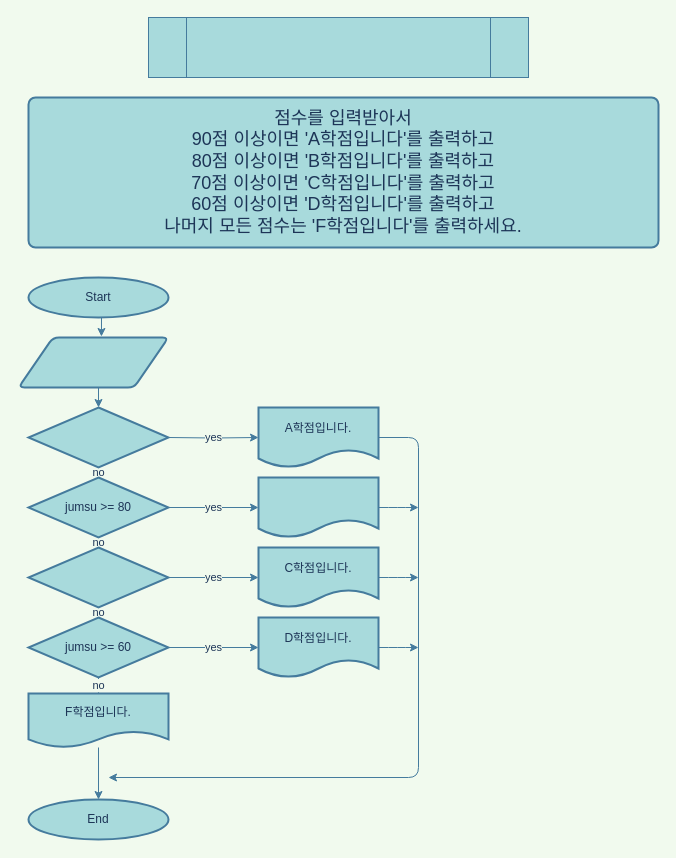
The diagram is 676 pixels wide and 858 high, and some of its shapes have lost their labels. The shapes that lost their labels are listed below. From the top down, each one's centre as x and y in pixels, then its label:
the point at 338,47: if statement
the point at 93,362: jumsu 입력
the point at 98,437: jumsu >= 90
the point at 318,507: B학점입니다.
the point at 98,577: jumsu >= 70
